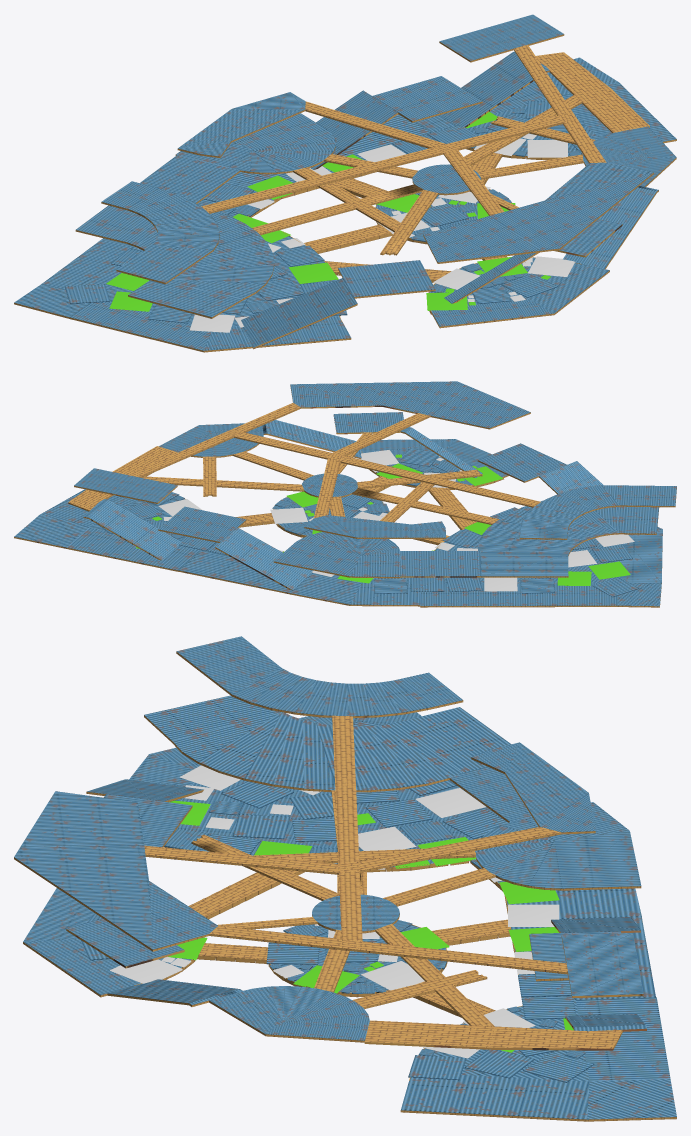
Rendered from grand_canyon2.fbx.
3 renders of one model, top to bottom at view 1: azimuth 30°, elevation 25°; view 2: azimuth 150°, elevation 25°; view 3: azimuth 270°, elevation 25°, orthographic. The views are drawn at different scales.
Parts seen in each view (by area): view 1: layer2, layer1, layer3, platings, planks; view 2: layer1, layer2, layer3, platings, planks; view 3: layer2, layer3, layer1, platings, planks.
Boxes of the visible parts, x1,y1,x2,y2 form: layer2: (75,52,676,318); layer1: (14,51,676,352); layer3: (101,14,653,284); platings: (65,101,606,332); planks: (248,148,581,322); layer1: (14,420,662,607); layer2: (68,412,659,578); layer3: (74,381,676,539); platings: (99,448,638,597); planks: (185,451,520,551); layer2: (66,695,641,1050); layer3: (14,636,643,998); layer1: (23,712,676,1121); platings: (81,721,594,1082); planks: (134,846,522,1080).
Bounding box in the file's own units: 16947 × 1672 × 11212.
